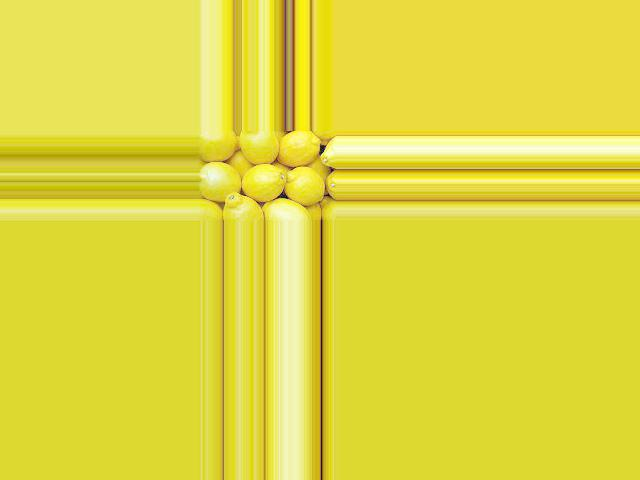lemon: (198, 197, 221, 218)
